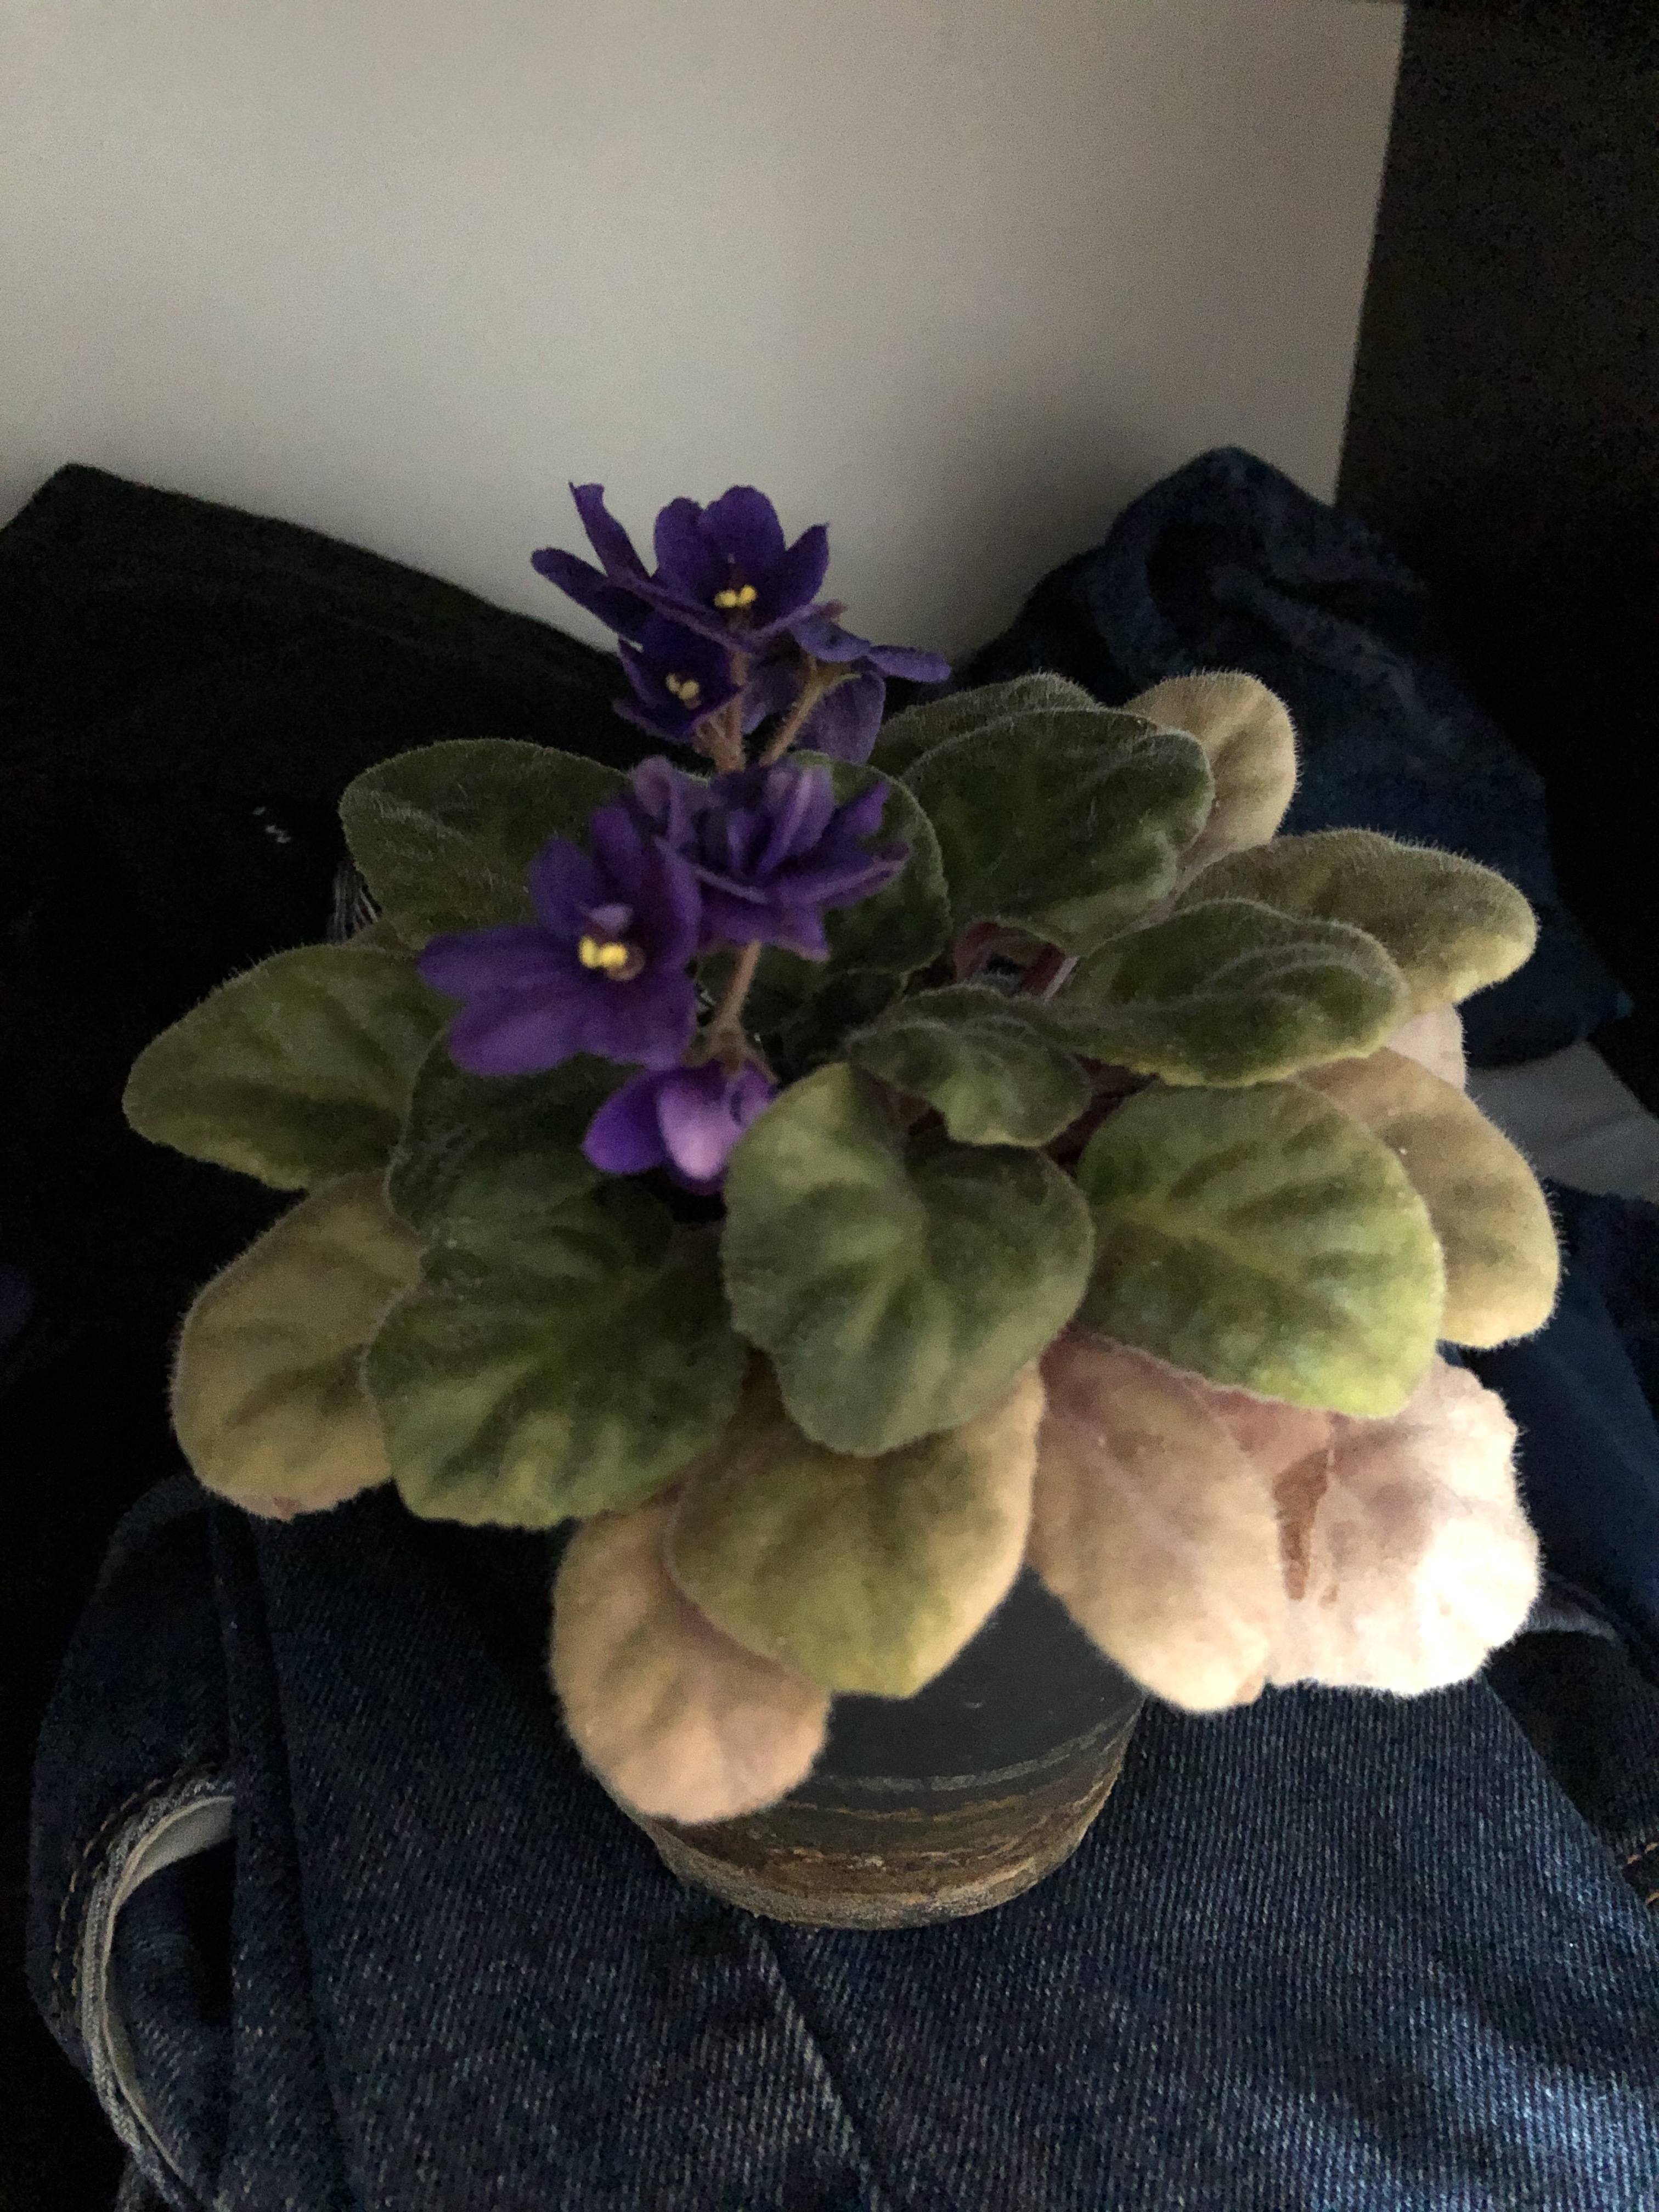ignore: (78, 441, 1579, 1730)
